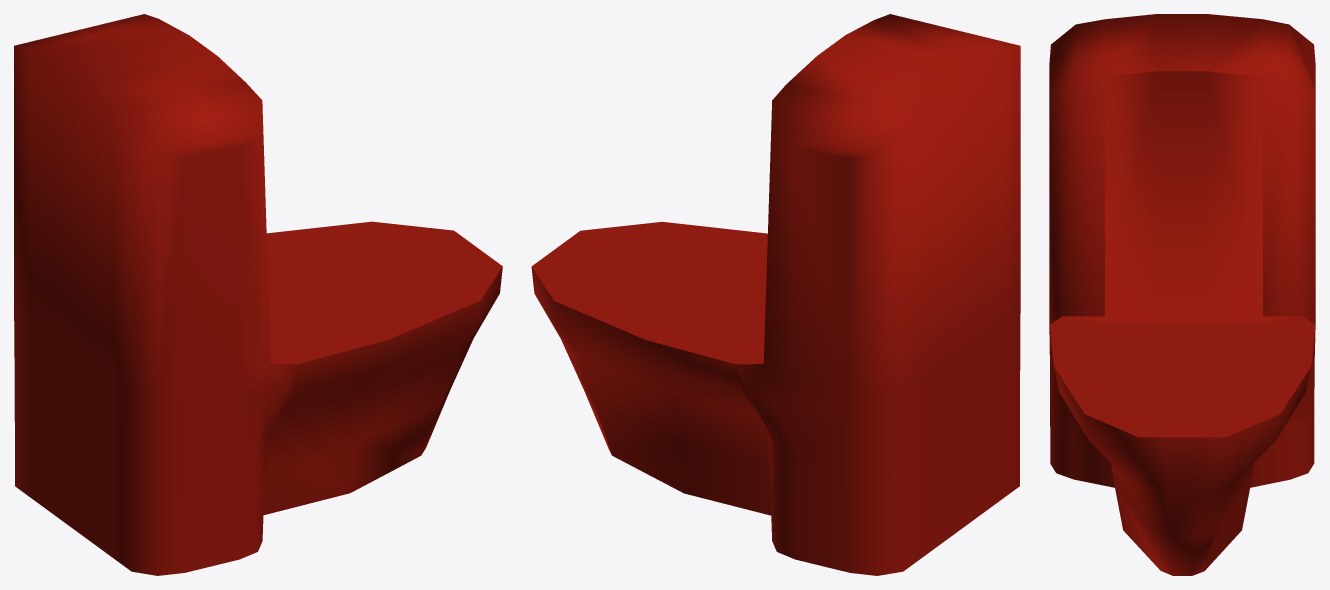
File: P_Toilettes_Colored_Breakable.fbx
The picture shows the model from 3 angles, left to right: view 1: azimuth 30°, elevation 25°; view 2: azimuth 150°, elevation 25°; view 3: azimuth 270°, elevation 25°; orthographic projection. The views are drawn at different scales.
Parts seen in each view (by area): view 1: P_Toilettes_Colored_Breakable; view 2: P_Toilettes_Colored_Breakable; view 3: P_Toilettes_Colored_Breakable.
Part boxes in pixels (x1,y1,x2,y2): P_Toilettes_Colored_Breakable: (14, 14, 502, 575); P_Toilettes_Colored_Breakable: (531, 14, 1020, 575); P_Toilettes_Colored_Breakable: (1049, 14, 1315, 575).
Size of the model in its own units: 71.88 by 76.5 by 45.23.
